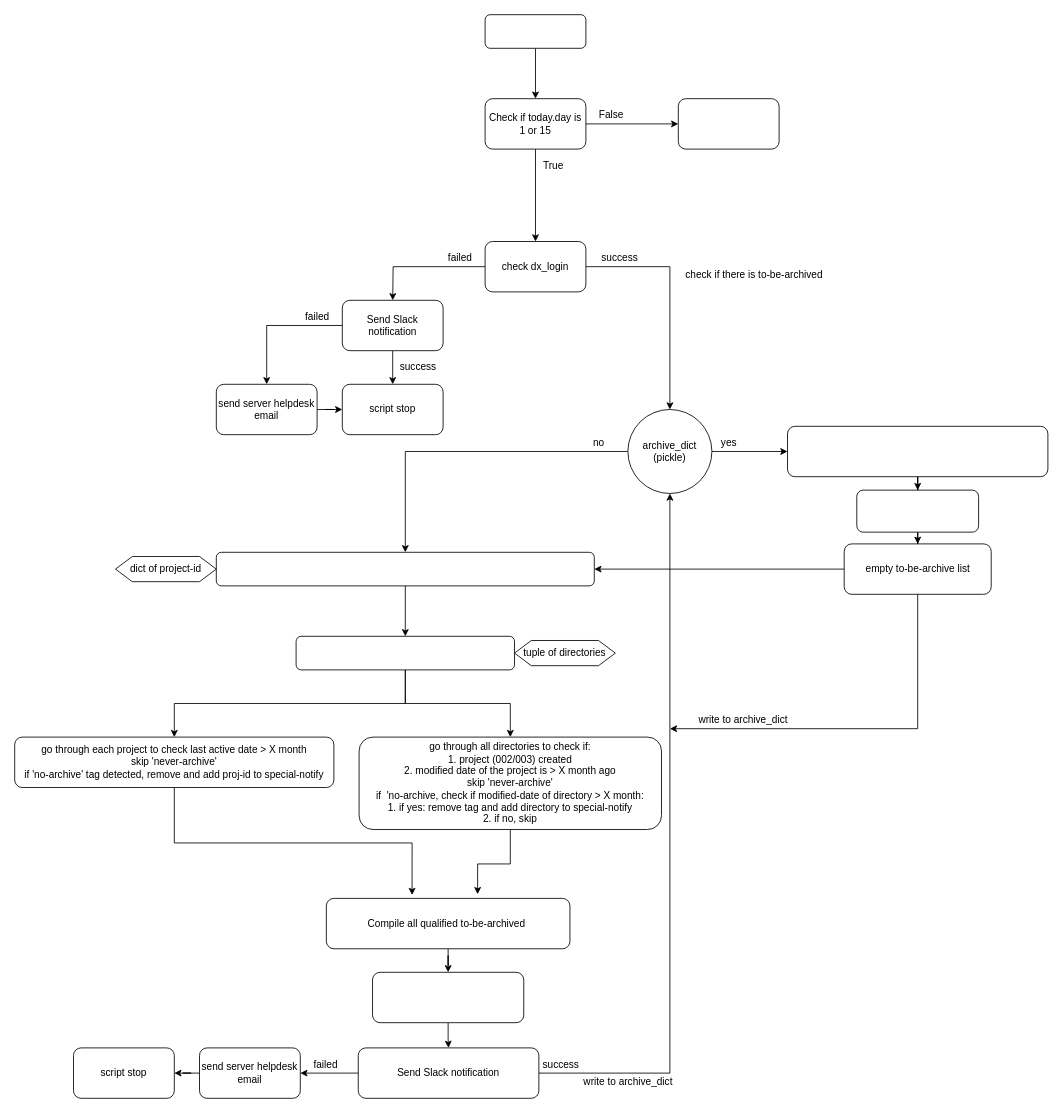
Image size: 1063x1113. Some labels were removed from this diagram. The shapes that lost their labels are listed below. From the top down, each one's centre as x and y in pixels, then its label:
At point (535, 31): "Script executed".
At point (728, 123): "Slack countdown notification".
At point (917, 451): "start archiving projects and directories".
At point (917, 510): "generate archived.txt".
At point (404, 568): "Find project (002 and 003) which are inactive for X months".
At point (404, 652): "Get all directories in staging52".
At point (448, 997): "Get tag status".
